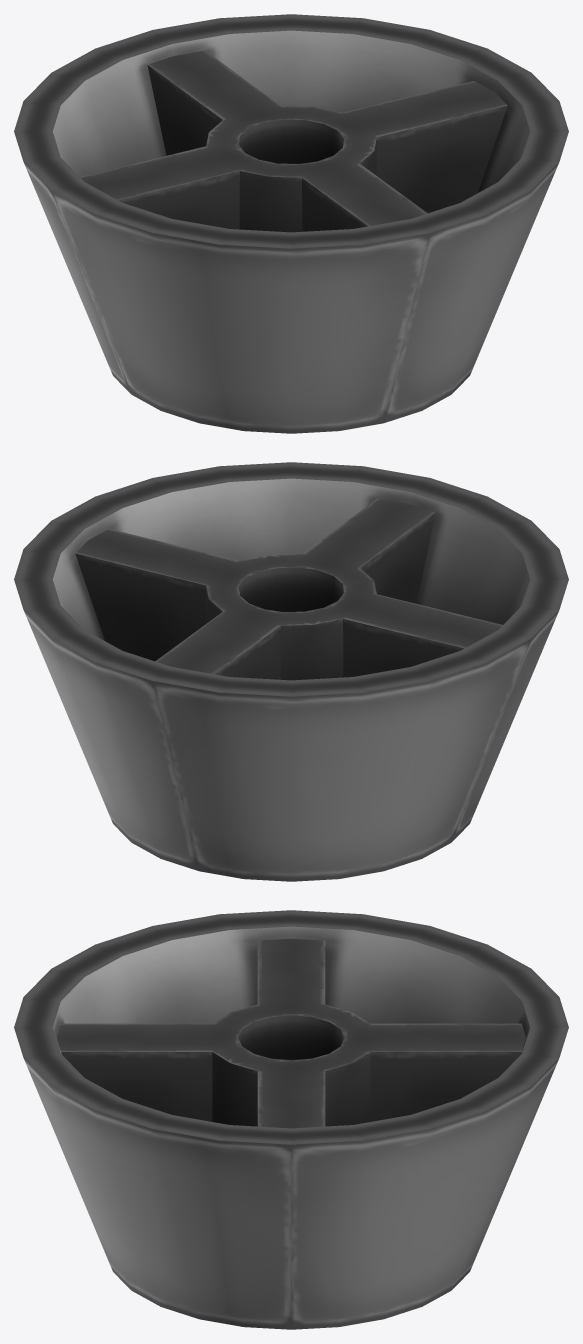
File: bluedog_ableFairing.dae
3 views of the same model, one above another, from view 1: azimuth 30°, elevation 25°; view 2: azimuth 150°, elevation 25°; view 3: azimuth 270°, elevation 25° (orthographic).
Visible parts, largest first — view 1: AbleFairingBase1; view 2: AbleFairingBase1; view 3: AbleFairingBase1.
Part boxes in pixels (x1,y1,x2,y2): AbleFairingBase1: (14,14,568,433); AbleFairingBase1: (14,462,568,881); AbleFairingBase1: (14,910,568,1329).
Bounding box in the file's own units: 0.9386 × 0.4184 × 0.9386.
